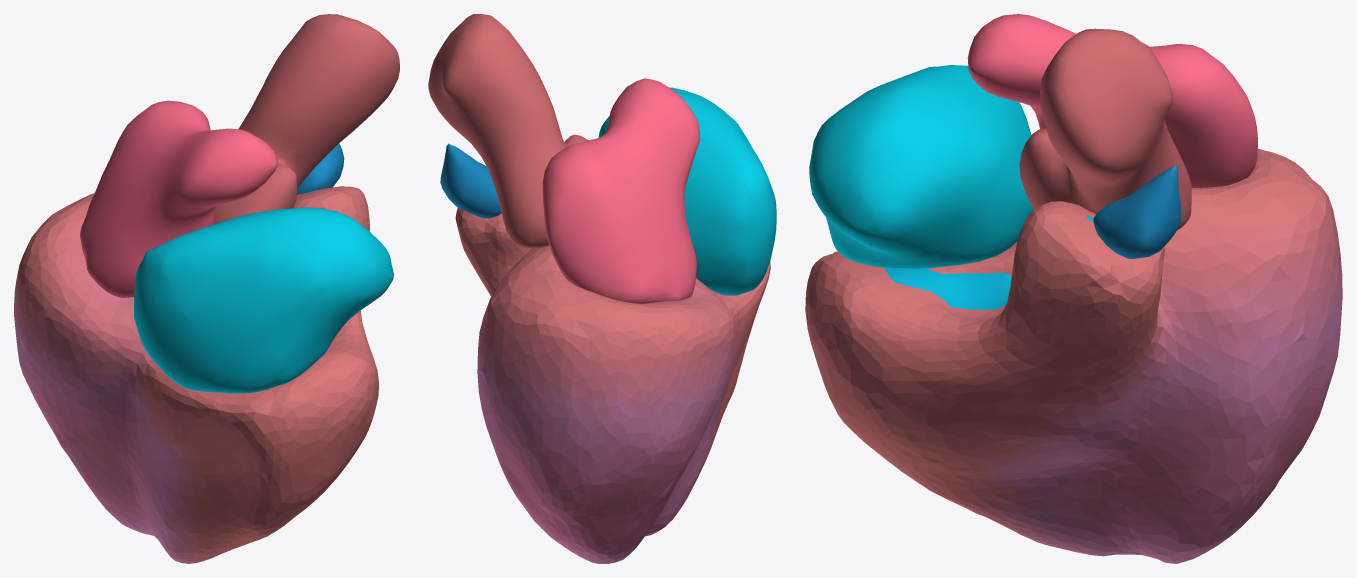
The model's file is frame_4.glb.
3 renders of one model, left to right at view 1: azimuth 30°, elevation 25°; view 2: azimuth 150°, elevation 25°; view 3: azimuth 270°, elevation 25°, orthographic. The views are drawn at different scales.
Parts seen in each view (by area): view 1: Renderer Node; view 2: Renderer Node; view 3: Renderer Node.
Part boxes in pixels (<box>): Renderer Node: <box>14,14,399,563</box>; Renderer Node: <box>428,14,776,563</box>; Renderer Node: <box>805,14,1342,563</box>.
Size of the model in its own units: 107 by 157 by 123.
